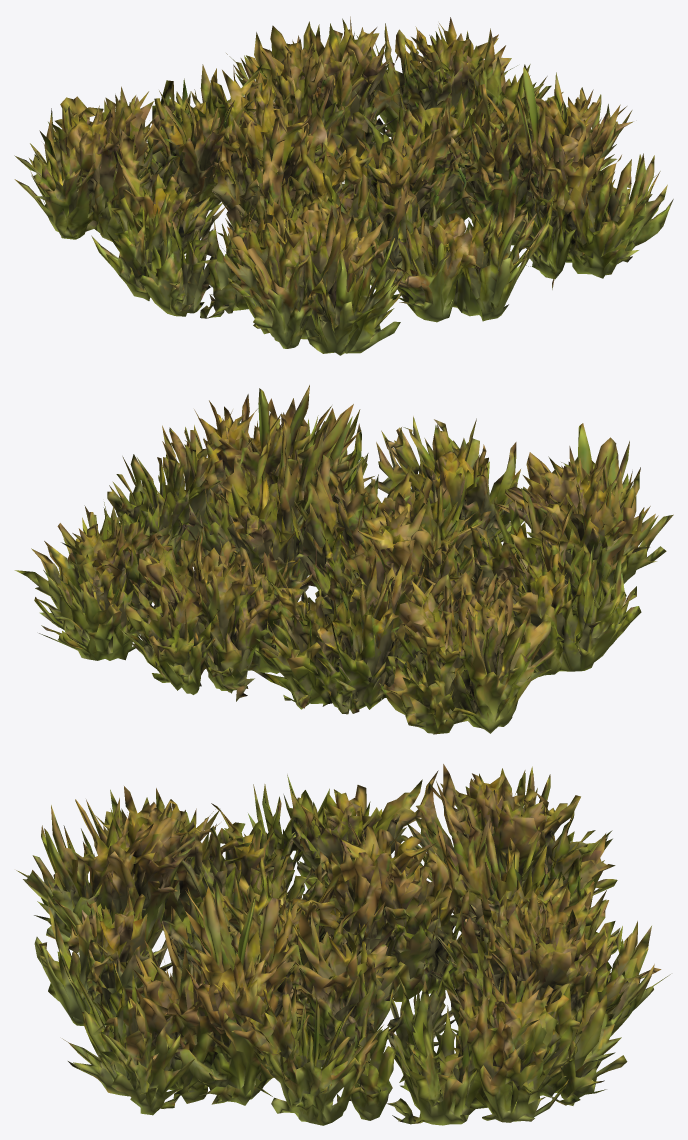
The model's file is grass.glb.
3 views of the same model, one above another, from view 1: azimuth 30°, elevation 25°; view 2: azimuth 150°, elevation 25°; view 3: azimuth 270°, elevation 25° (orthographic). The views are drawn at different scales.
Visible parts, largest first — view 1: Mesh_0; view 2: Mesh_0; view 3: Mesh_0.
Boxes of the visible parts, <box> form: Mesh_0: <box>14,16,673,355</box>; Mesh_0: <box>14,385,673,734</box>; Mesh_0: <box>16,764,670,1125</box>.
Bounding box in the file's own units: 3.11 × 1 × 3.09.
Materials: 1 (1 with a texture image).
